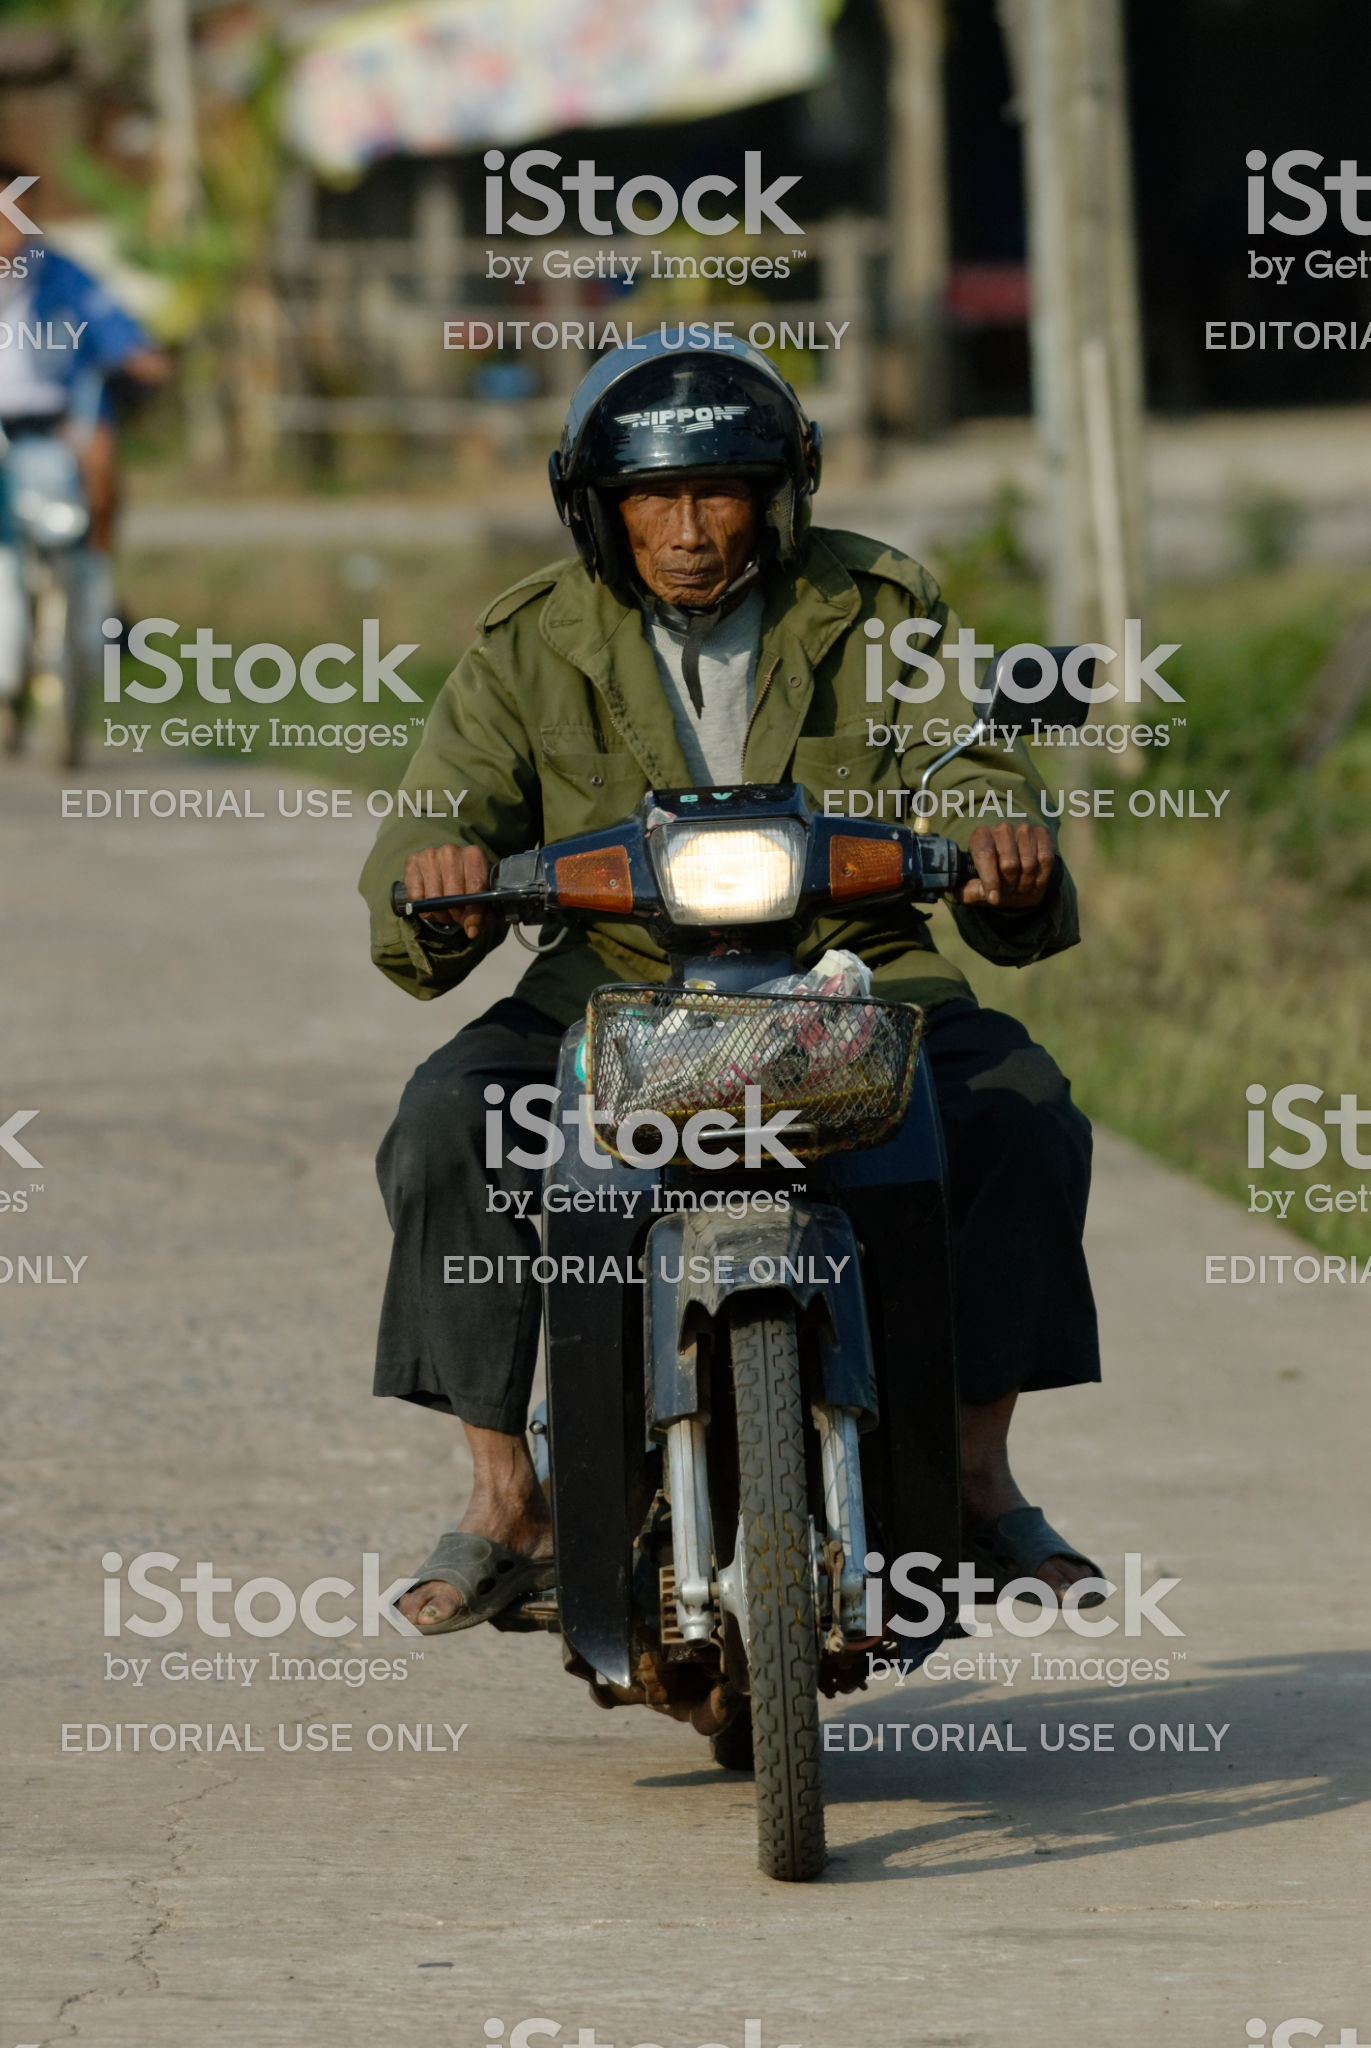helmet: (523, 324, 848, 590)
